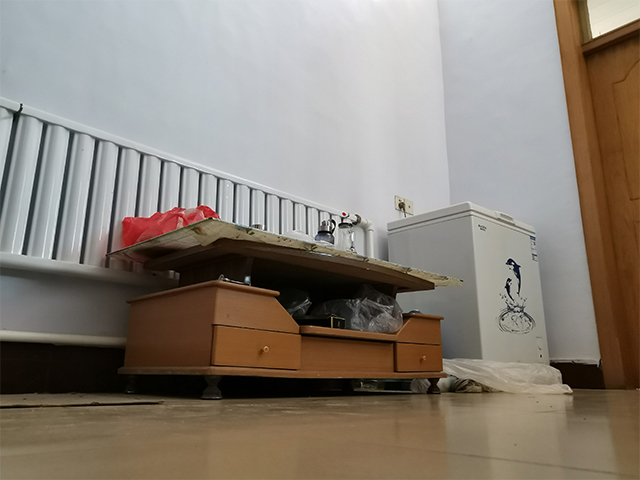cabinet: (103, 215, 468, 401)
